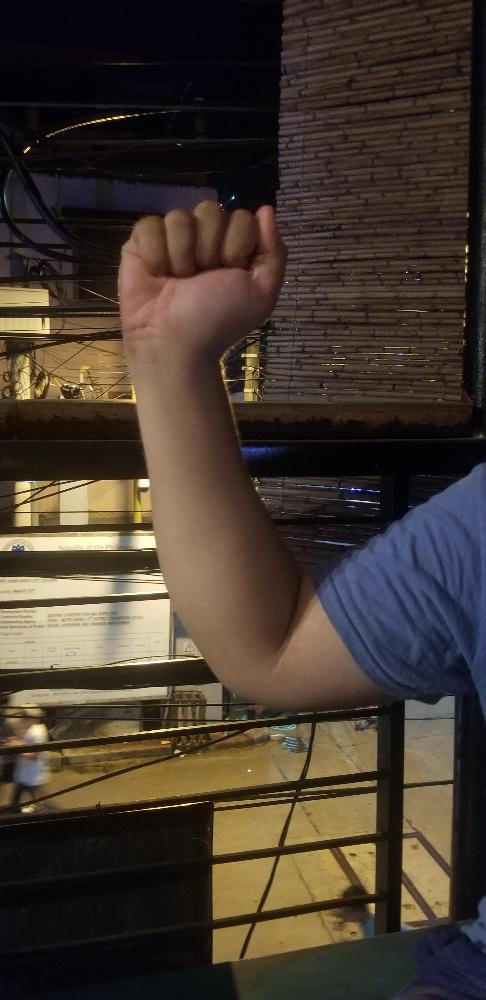a: (115, 202, 284, 348)
